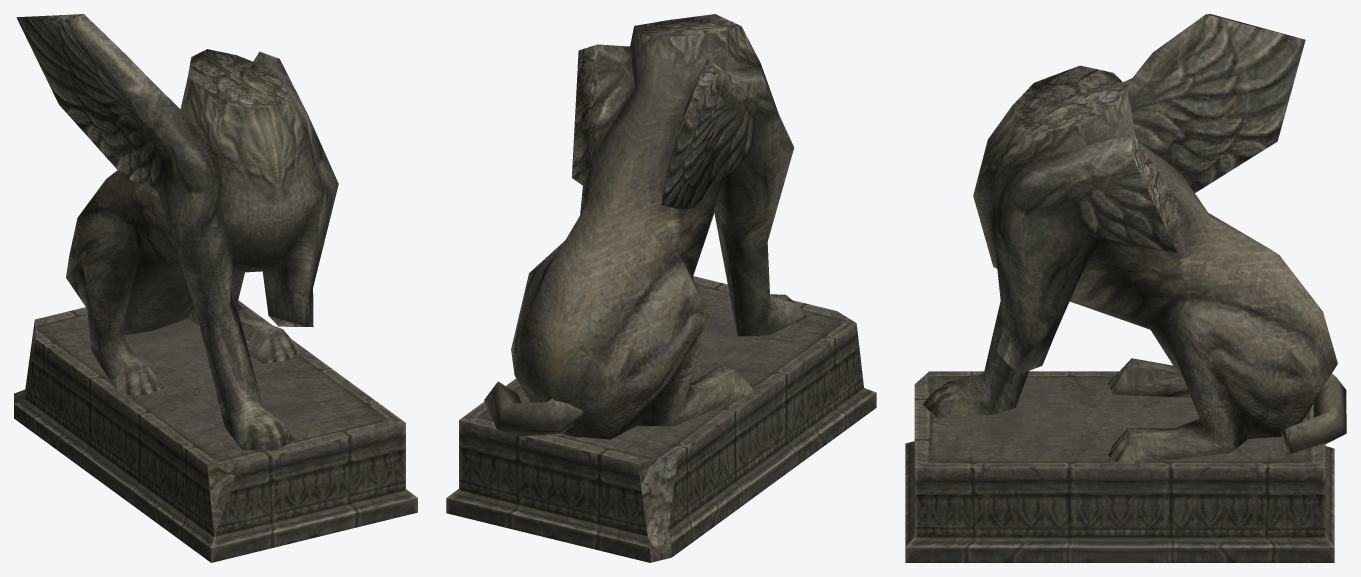
The model's file is Statue06_b.FBX.
3 renders of one model, left to right at view 1: azimuth 30°, elevation 25°; view 2: azimuth 150°, elevation 25°; view 3: azimuth 270°, elevation 25°, orthographic. The views are drawn at different scales.
Visible parts, largest first — view 1: Statue06_b; view 2: Statue06_b; view 3: Statue06_b.
Boxes of the visible parts, <box> form: Statue06_b: <box>14,14,417,562</box>; Statue06_b: <box>446,14,876,562</box>; Statue06_b: <box>905,14,1346,562</box>.
Bounding box in the file's own units: 86.37 × 174 × 153.
